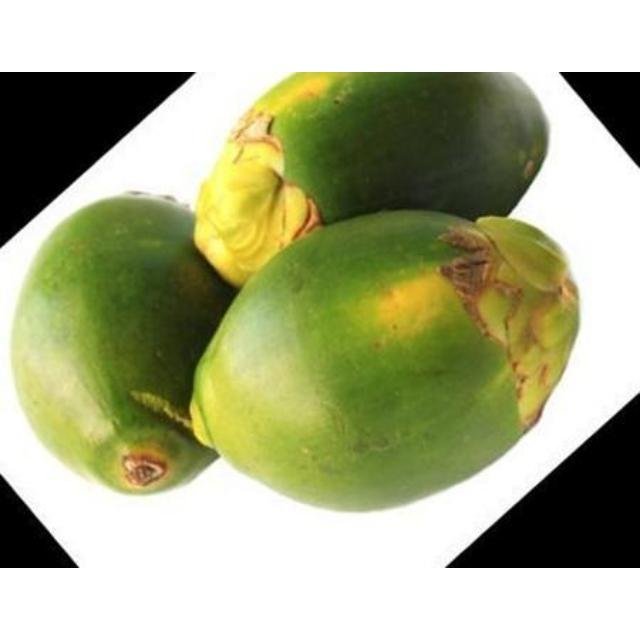good: (189, 209, 585, 516), (192, 72, 552, 291), (4, 191, 239, 502)
